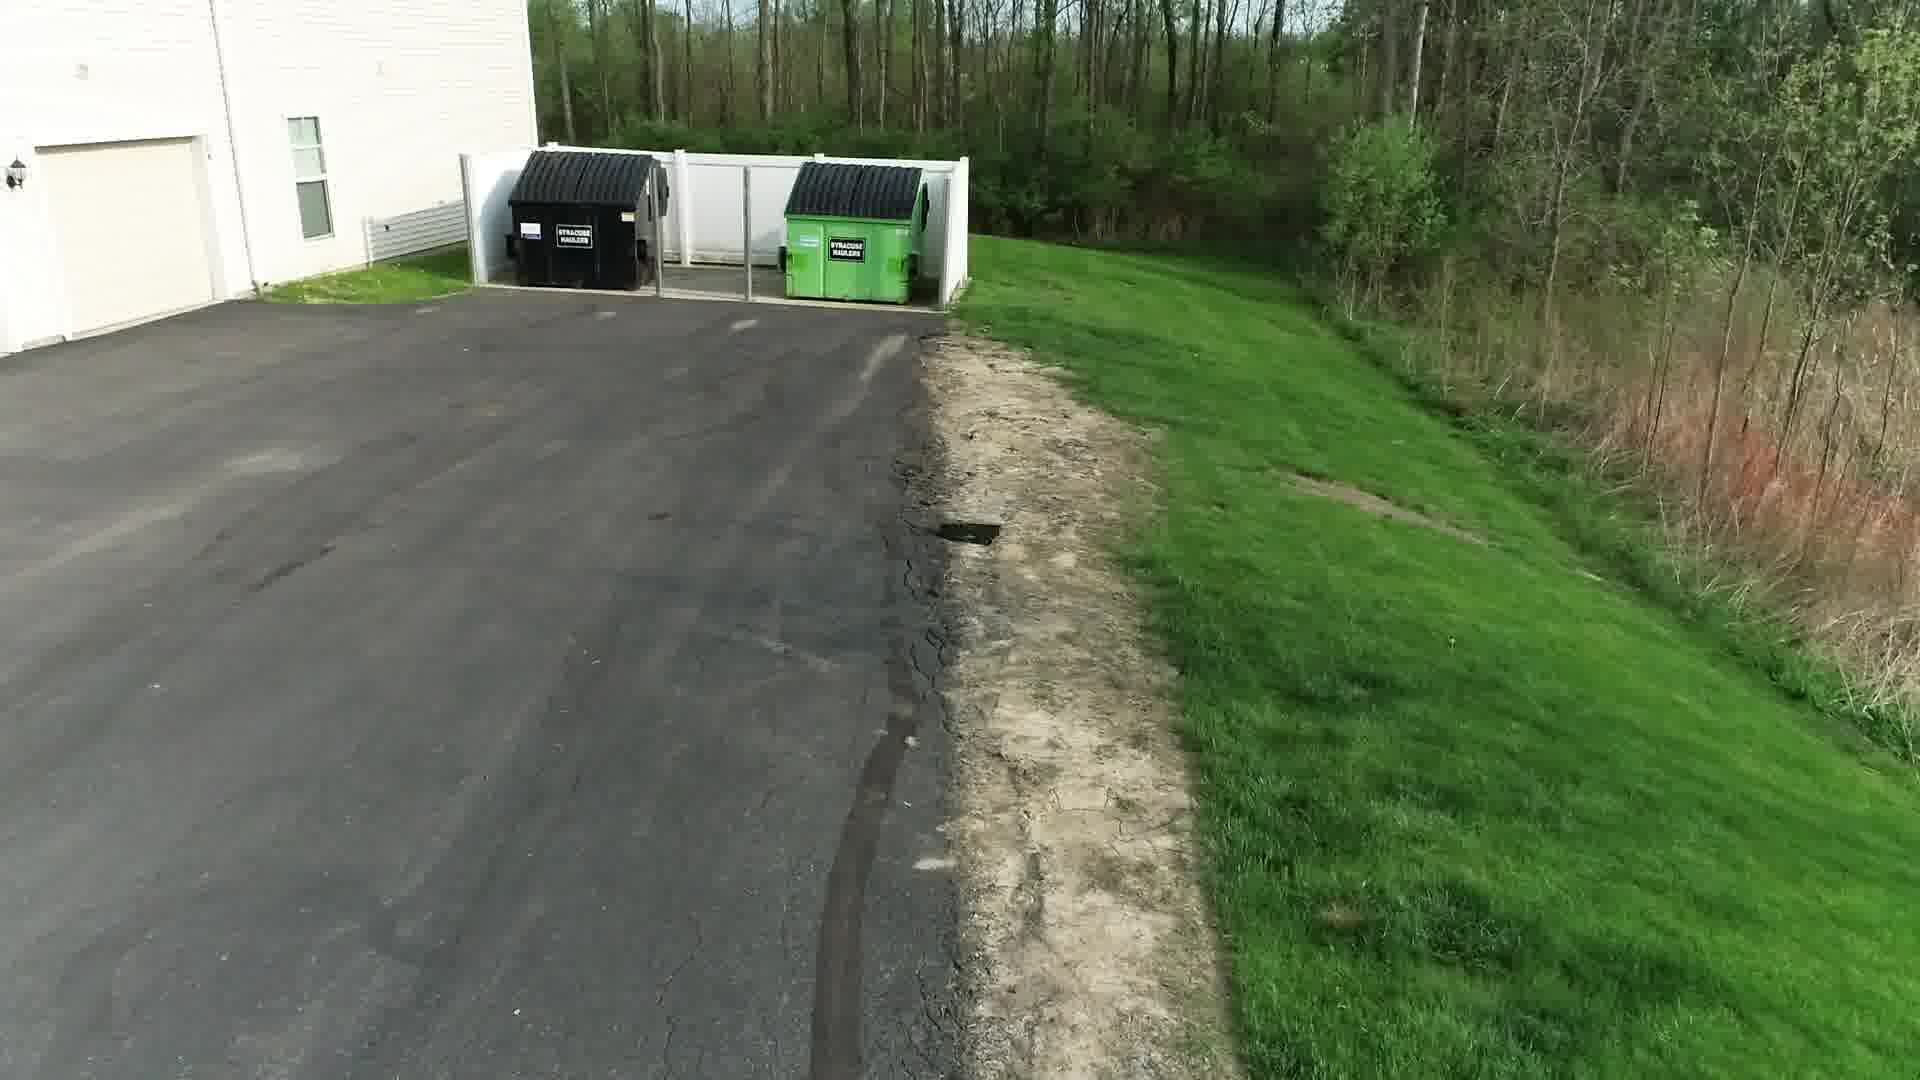transporter9: (932, 517, 1004, 546)
